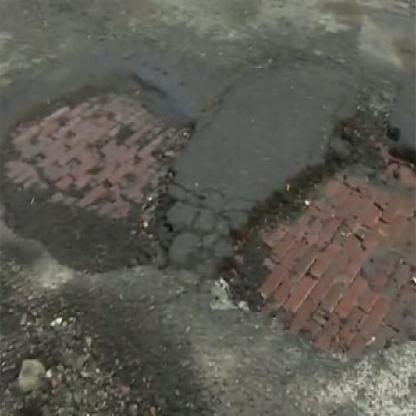pothole: (212, 107, 416, 355), (2, 79, 199, 274)
